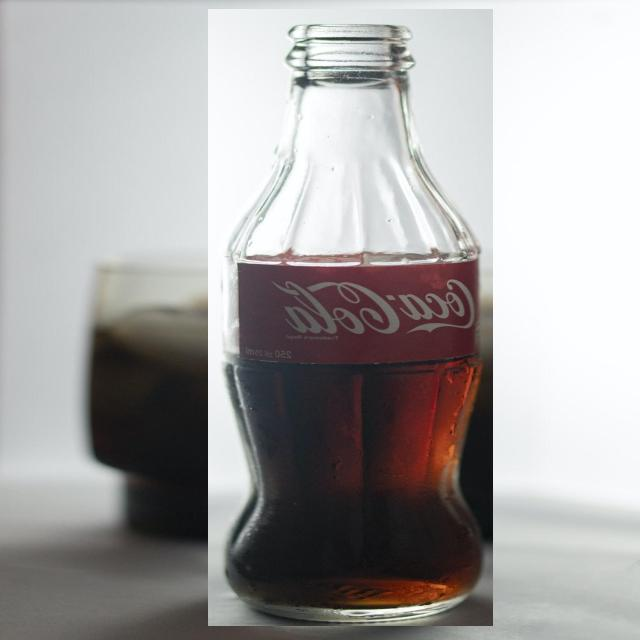coca-cola: (208, 9, 493, 626)
